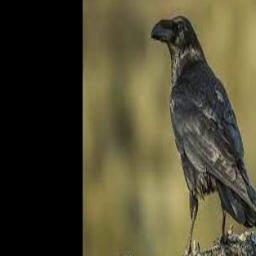Crow: (150, 16, 256, 256)
